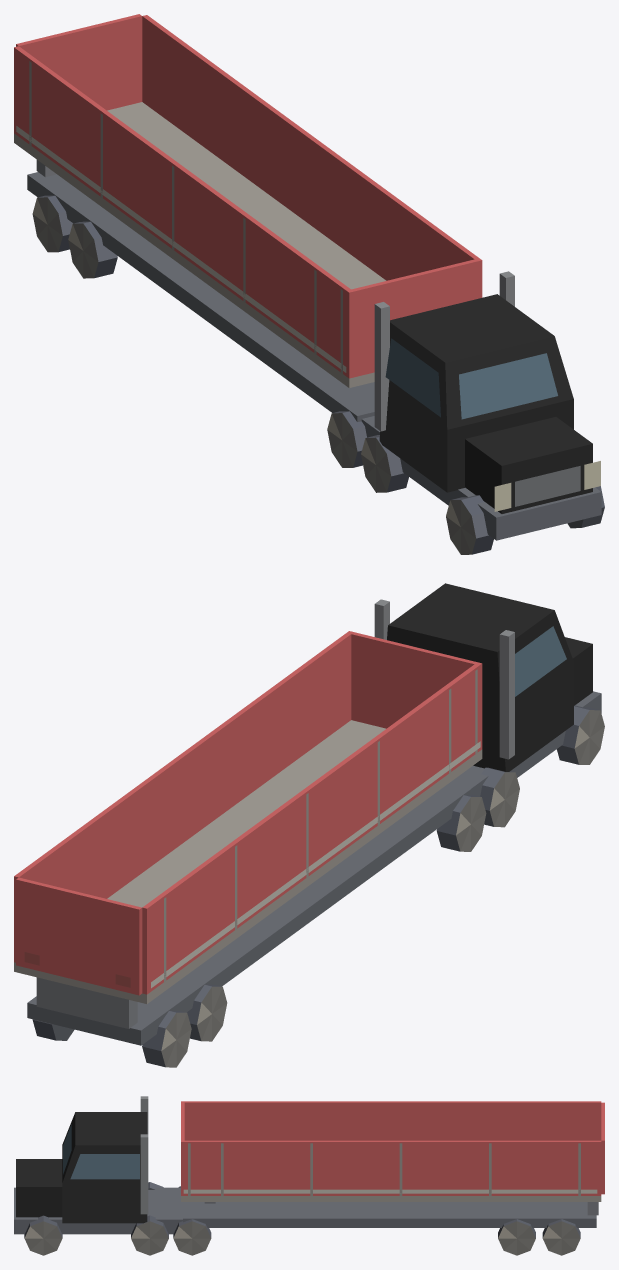
Rendered from grain_hauler_black.glb.
The picture shows the model from 3 angles, top to bottom: view 1: azimuth 30°, elevation 25°; view 2: azimuth 150°, elevation 25°; view 3: azimuth 270°, elevation 25°; orthographic projection. The views are drawn at different scales.
Parts seen in each view (by area): view 1: DumpBed_Visual, Tractor, Trailer_Hitch, Tailgate_Pivot, Tire_0_L, Tire_3_L, Tire_1_L, Tire_2_L, Tire_4_L; view 2: DumpBed_Visual, Tractor, Trailer_Hitch, Tailgate_Pivot, Tire_0_L, Tire_4_L, Tire_2_L, Tire_1_L, Tire_3_L; view 3: DumpBed_Visual, Tractor, Trailer_Hitch, Tire_0_R, Tire_1_R, Tire_2_R, Tire_4_R, Tire_3_R, Tailgate_Pivot.
Part boxes in pixels (box(x1,y1,x2,y2)): DumpBed_Visual: box(14, 15, 482, 387); Tractor: box(361, 271, 601, 540); Trailer_Hitch: box(27, 160, 374, 421); Tailgate_Pivot: box(16, 14, 142, 110); Tire_0_L: box(446, 495, 493, 554); Tire_3_L: box(68, 221, 117, 278); Tire_1_L: box(361, 435, 408, 492); Tire_2_L: box(327, 411, 366, 467); Tire_4_L: box(32, 195, 72, 252); DumpBed_Visual: box(14, 631, 482, 1003); Tractor: box(374, 583, 601, 796); Trailer_Hitch: box(27, 783, 470, 1045); Tailgate_Pivot: box(16, 877, 142, 995); Tire_0_L: box(556, 705, 604, 764); Tire_4_L: box(142, 1010, 191, 1067); Tire_2_L: box(436, 794, 486, 851); Tire_1_L: box(480, 767, 519, 827); Tire_3_L: box(187, 984, 227, 1041); DumpBed_Visual: box(181, 1101, 601, 1201); Tractor: box(14, 1096, 182, 1234); Trailer_Hitch: box(183, 1202, 598, 1227); Tire_0_R: box(24, 1215, 62, 1255); Tire_1_R: box(131, 1215, 168, 1255); Tire_2_R: box(173, 1219, 211, 1255); Tire_4_R: box(542, 1219, 580, 1255); Tire_3_R: box(498, 1219, 535, 1255); Tailgate_Pivot: box(601, 1102, 604, 1194).
Size of the model in its own units: 2.51 by 3.39 by 15.21.
